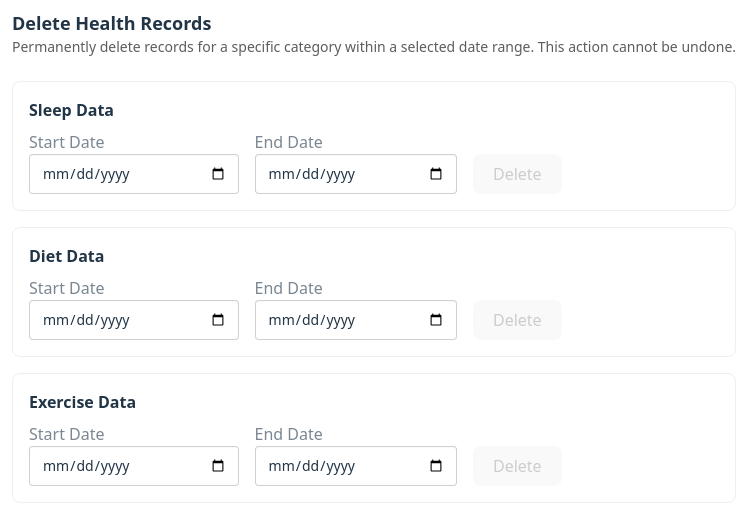
DataManagementPanel › filling dates in one section does not enable the others
// Use category-scoped IDs to target the right inputs unambiguously
Type "2024-01-01" into the date field with id "sleep-start-date" at (134, 174), box [29,154,238,194]
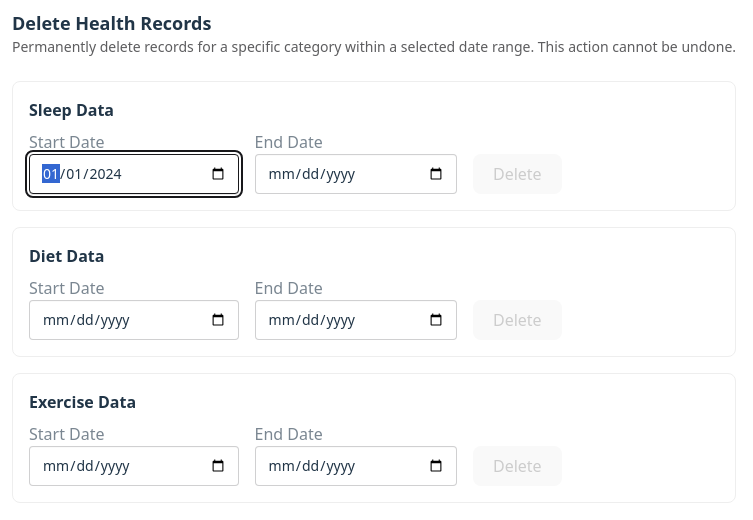
Type "2024-01-31" into the date field with id "sleep-end-date" at (356, 174), box [254,154,457,194]
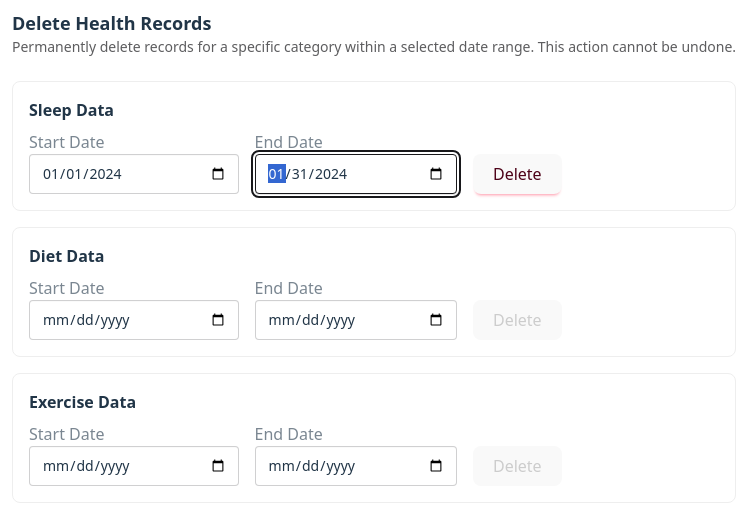
Expected: the 2nd button "Delete" is disabled, [473,300,562,340]
Now the 1st button "Delete" is enabled, box [473,154,562,194]
